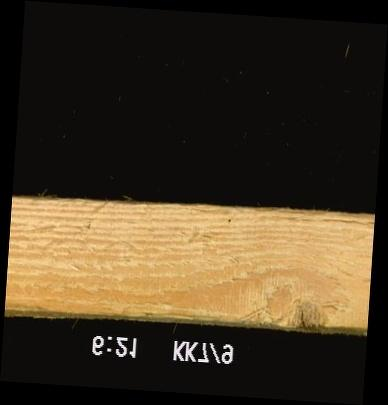edge_knot: (282, 290, 352, 331)
split: (140, 309, 221, 319)
